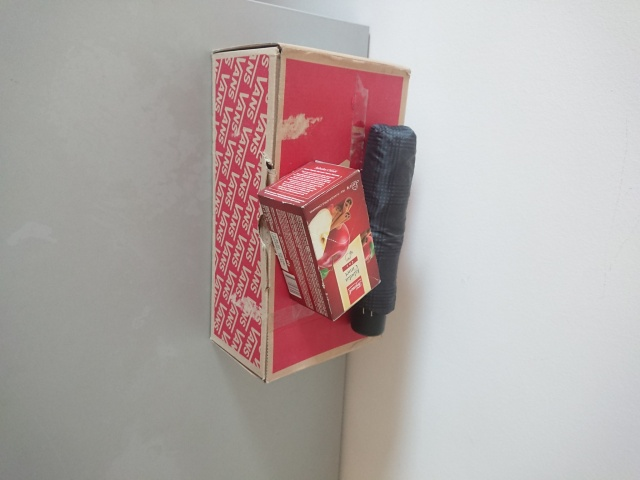Franck Apple Cinnamon Tea 60g: (255, 157, 383, 322)
